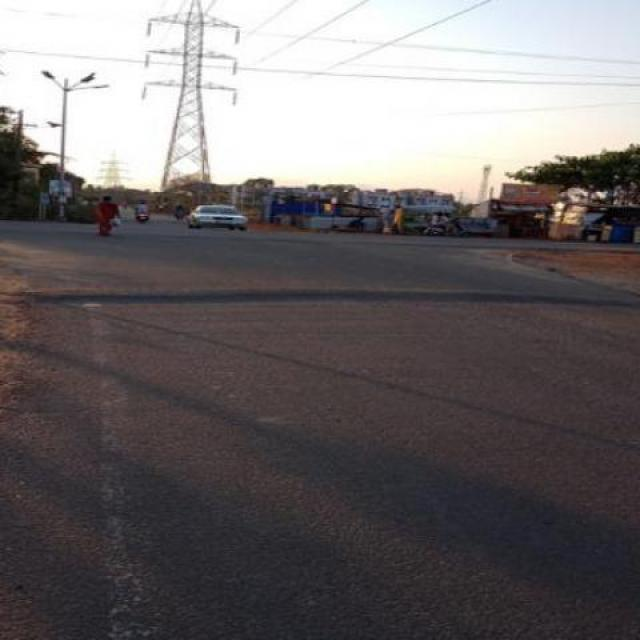Unmarked Bump: (24, 280, 639, 312)
